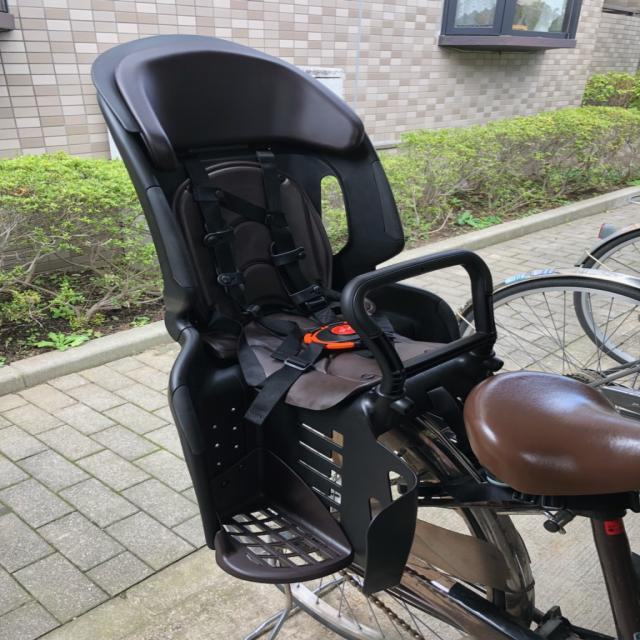childseat: (88, 32, 498, 582)
